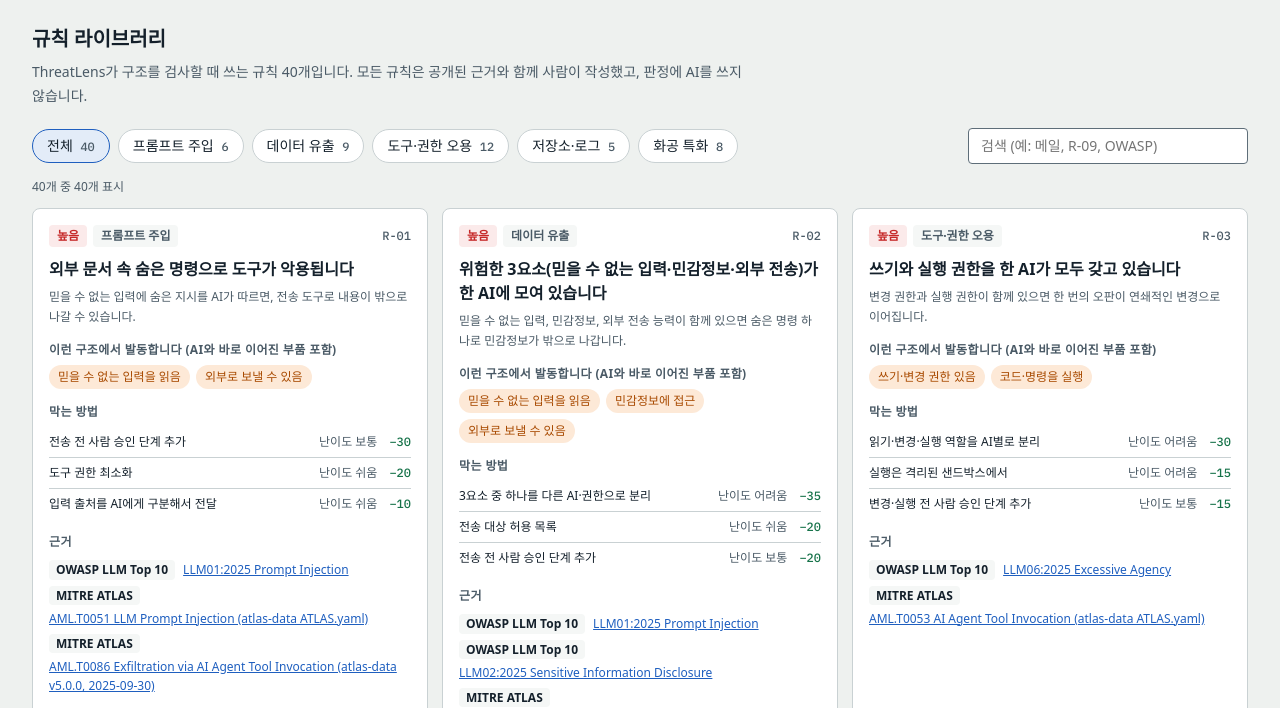
Scenario: RuleLibrary: 카테고리 탭을 누르면 걸러진다
Step 1. Click the tab "화공 특화 8" → click(688, 146), box x1=638 y1=129 x2=738 y2=163
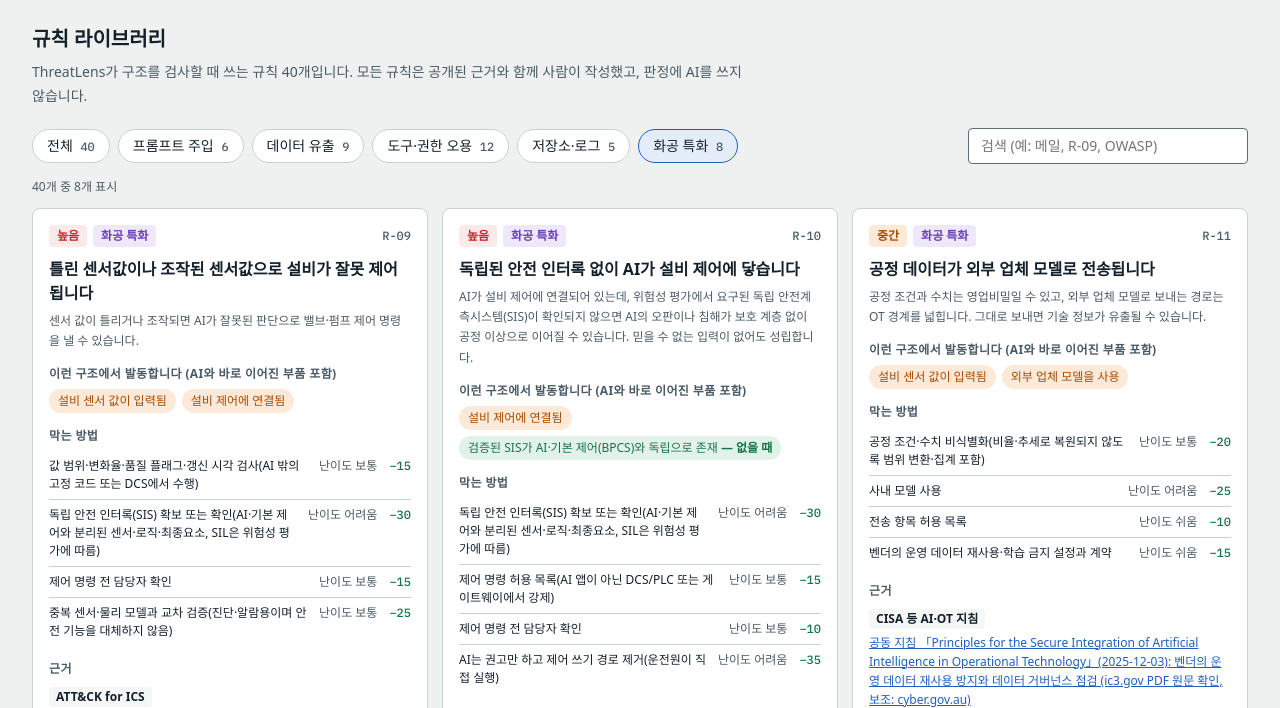
Expected: the tab "화공 특화 8" is selected, x1=638 y1=129 x2=738 y2=163
